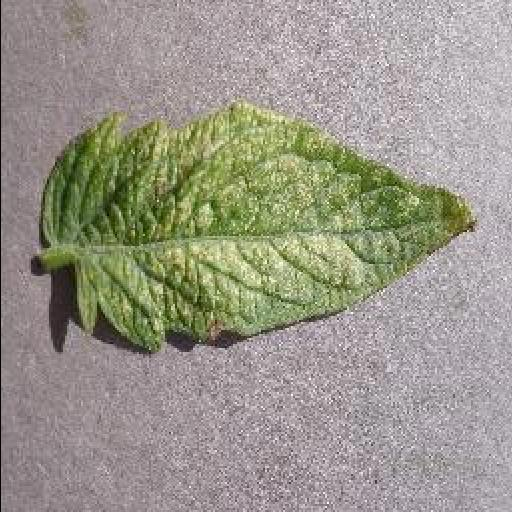disease_tomato: (43, 100, 477, 352)
